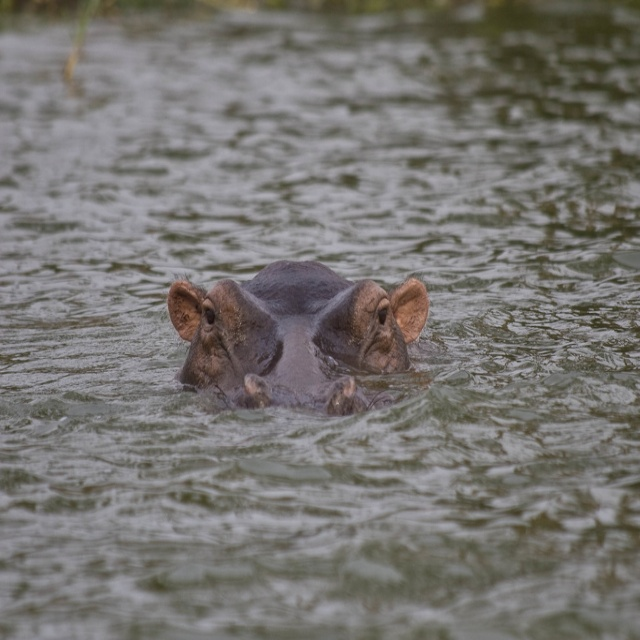Hippopotamus: (167, 256, 427, 417)
